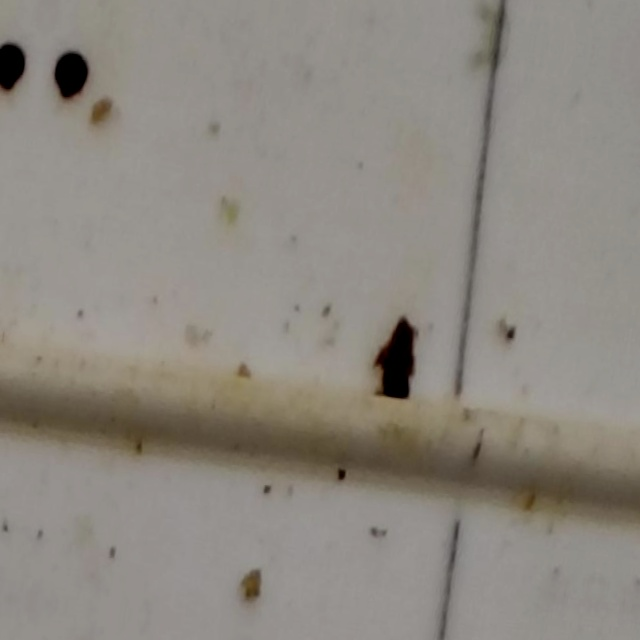varroa: (51, 46, 95, 100)
